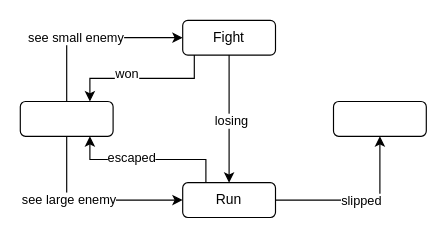
Some shapes in this 447 by 238 pixel diagram are drawn without their labels. Here are the shapes that lost their labels. From the top down, the centre of each, then its label:
At [66,118]: "Guard".
At [379,118]: "Dead".
